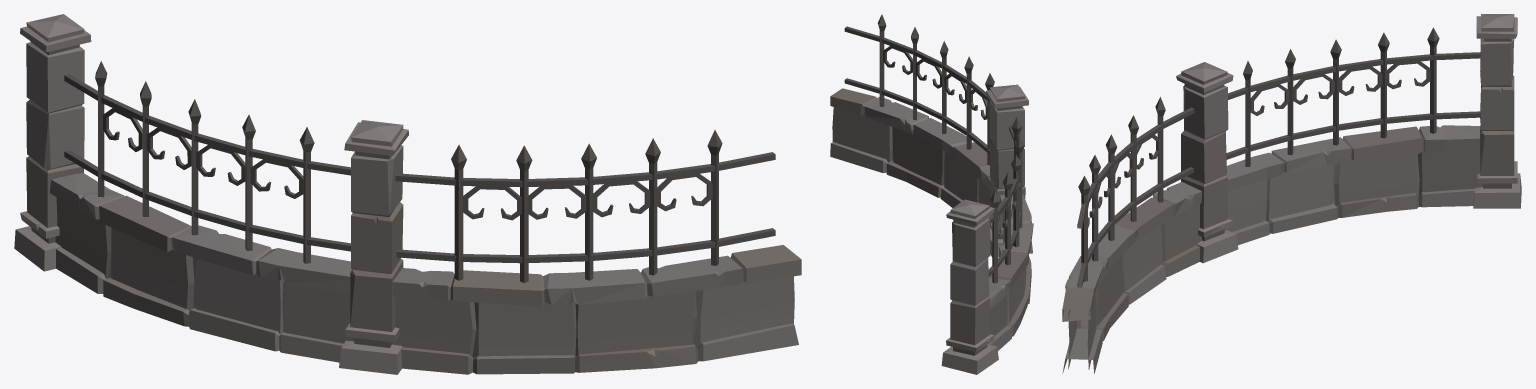
File: CornerBig.fbx
The picture shows the model from 3 angles, left to right: view 1: azimuth 30°, elevation 25°; view 2: azimuth 150°, elevation 25°; view 3: azimuth 270°, elevation 25°; orthographic projection. The views are drawn at different scales.
Parts seen in each view (by area): view 1: wall_graveyard_3m_corner; view 2: wall_graveyard_3m_corner; view 3: wall_graveyard_3m_corner.
Boxes of the visible parts, x1,y1,x2,y2 form: wall_graveyard_3m_corner: (14,14,801,374); wall_graveyard_3m_corner: (830,14,1033,374); wall_graveyard_3m_corner: (1062,14,1521,373).
Size of the model in its own units: 317 by 143 by 329.
Materials: 1 (1 with a texture image).
